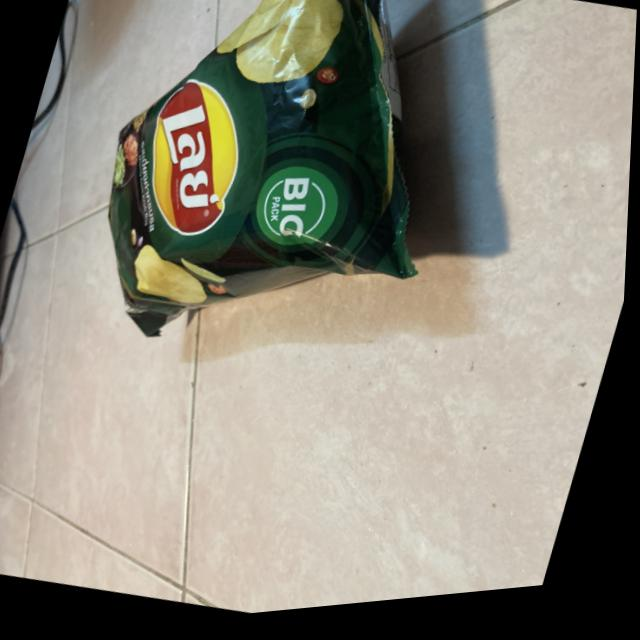Laygreen: (17, 0, 497, 455)
